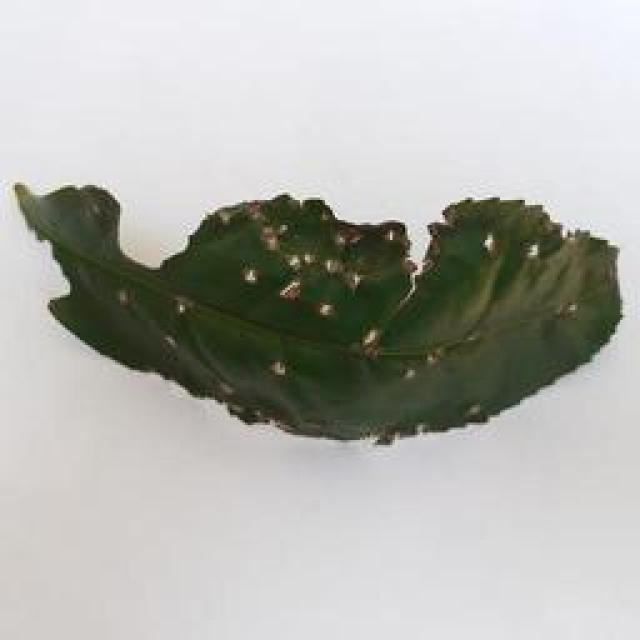Helopeltis: (10, 153, 640, 465)
